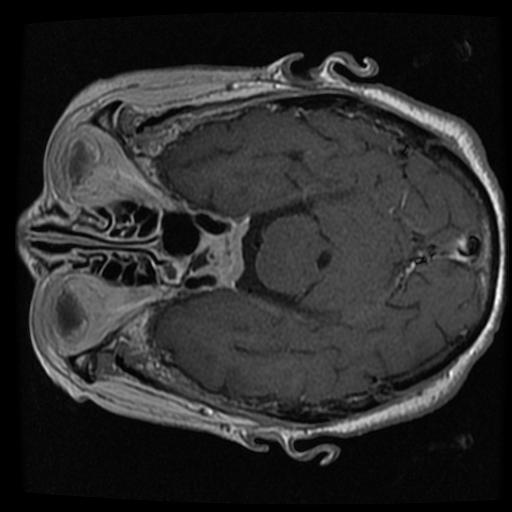pituitary tumour: (198, 222, 248, 289)
